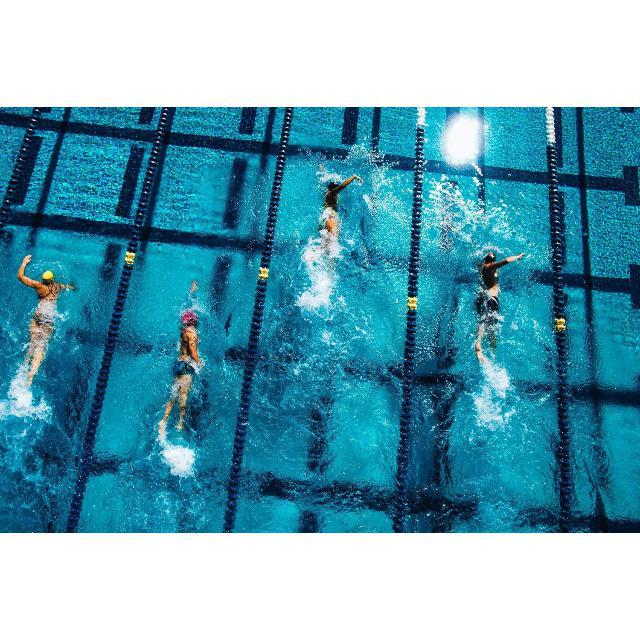human: (19, 255, 74, 389), (157, 277, 201, 438), (474, 249, 526, 359), (317, 173, 363, 260)
